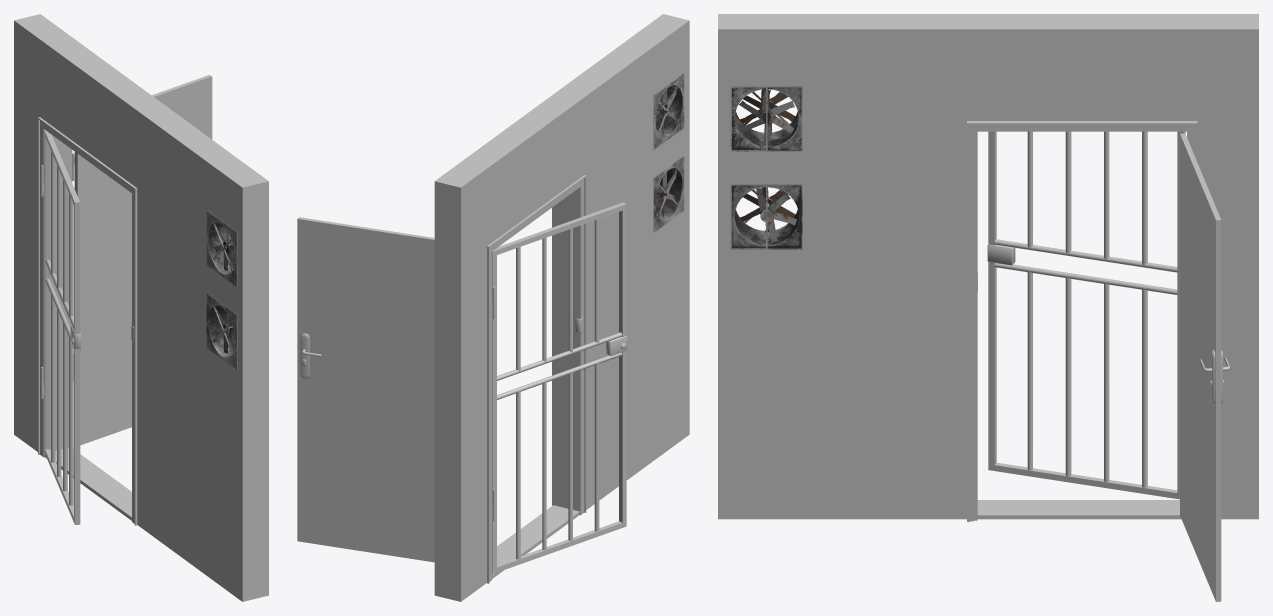
The model's file is SM_BuildingA_DoorOpen_3m_C.fbx.
3 renders of one model, left to right at view 1: azimuth 30°, elevation 25°; view 2: azimuth 150°, elevation 25°; view 3: azimuth 270°, elevation 25°, orthographic. The views are drawn at different scales.
Visible parts, largest first — view 1: SM_BuildingA_DoorOpen_3m_C_LOD0; view 2: SM_BuildingA_DoorOpen_3m_C_LOD0; view 3: SM_BuildingA_DoorOpen_3m_C_LOD0.
Part boxes in pixels (x1,y1,x2,y2): SM_BuildingA_DoorOpen_3m_C_LOD0: (14, 14, 268, 601); SM_BuildingA_DoorOpen_3m_C_LOD0: (297, 14, 689, 601); SM_BuildingA_DoorOpen_3m_C_LOD0: (718, 14, 1258, 601).
Size of the model in its own units: 177 by 300 by 300.
4 materials, 1 textured.
